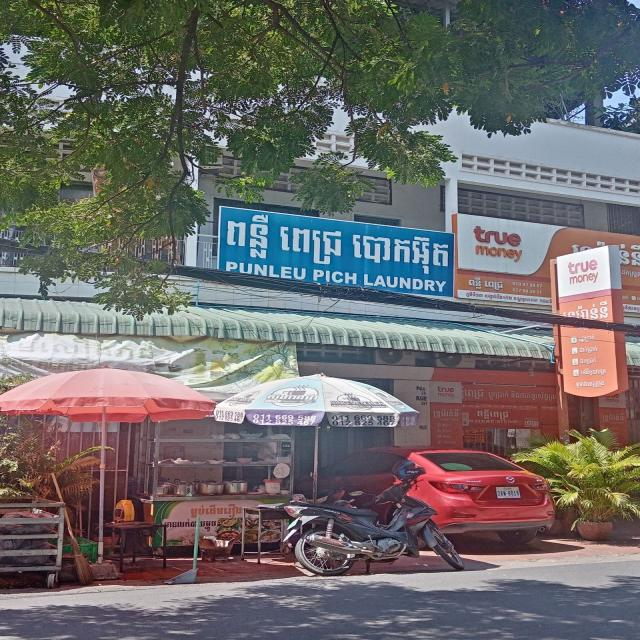1: (459, 272, 512, 298), (485, 389, 551, 406)
2: (206, 204, 467, 282)
Yolov11kh: (183, 500, 247, 520), (473, 406, 512, 422), (563, 365, 607, 378), (569, 378, 606, 393), (564, 342, 601, 356), (565, 332, 597, 346), (432, 408, 463, 422), (566, 355, 604, 366)
